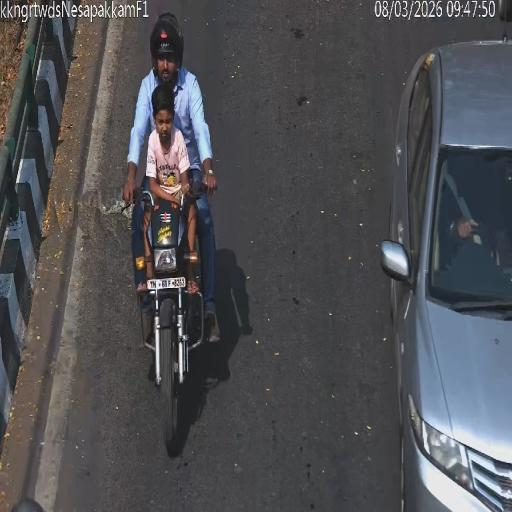person_with_seatbelt: (440, 157, 494, 257)
